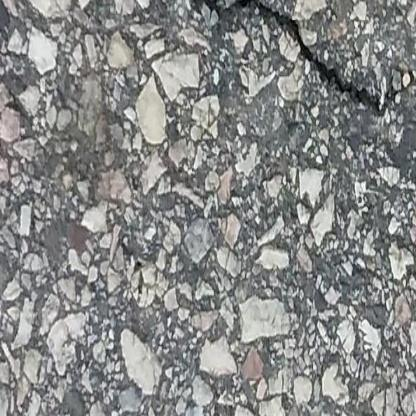Cracks: (232, 0, 401, 121), (182, 0, 214, 8), (405, 70, 416, 92)
